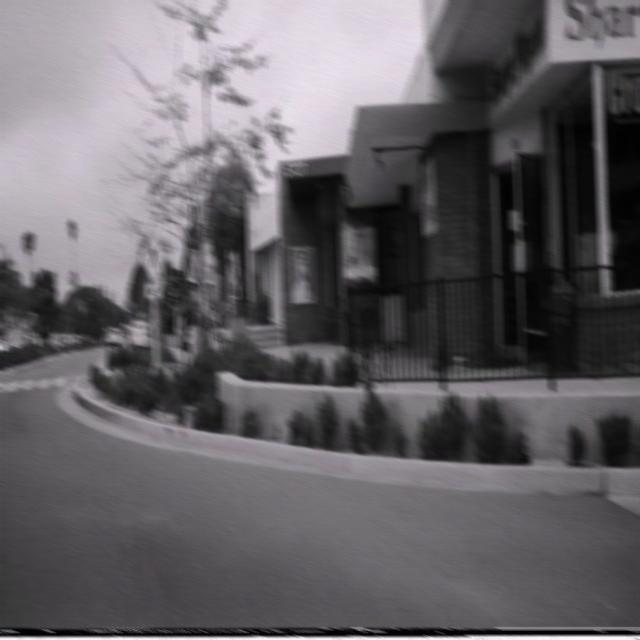pedestrianCrossing: (138, 232, 166, 282)
